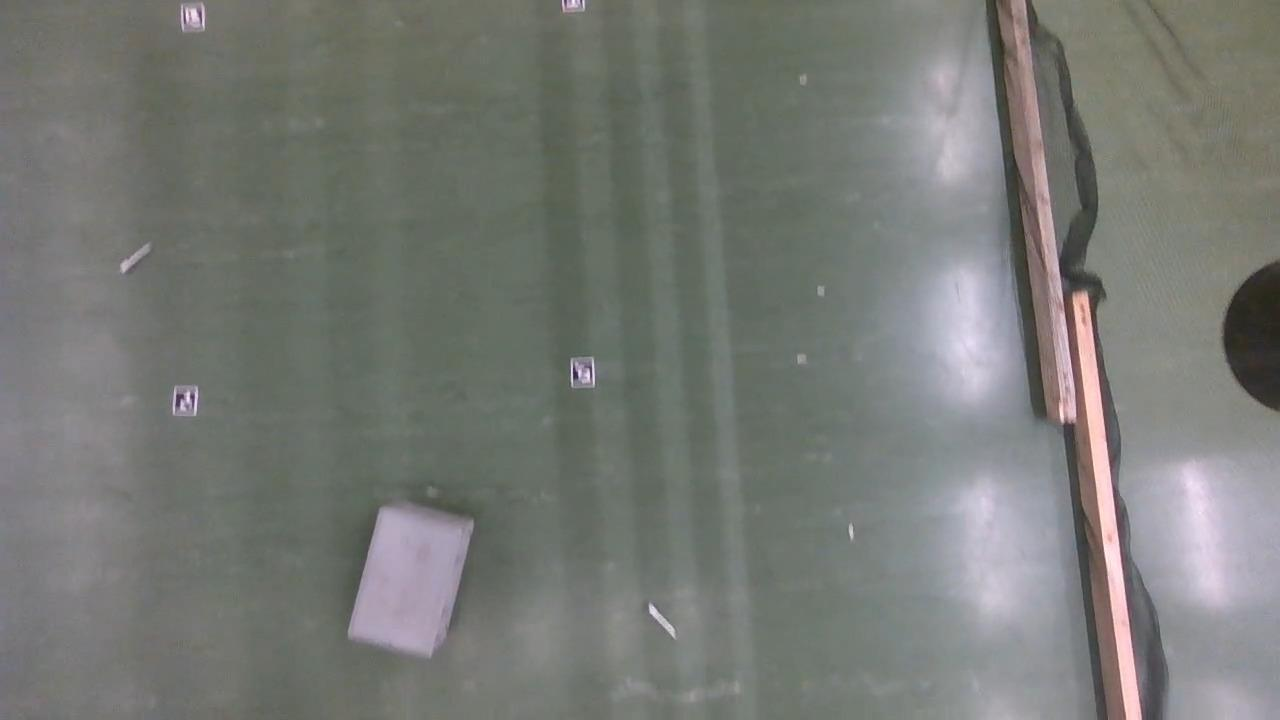probes: (648, 601, 676, 639), (119, 241, 151, 274)
rako: (348, 503, 473, 656)
